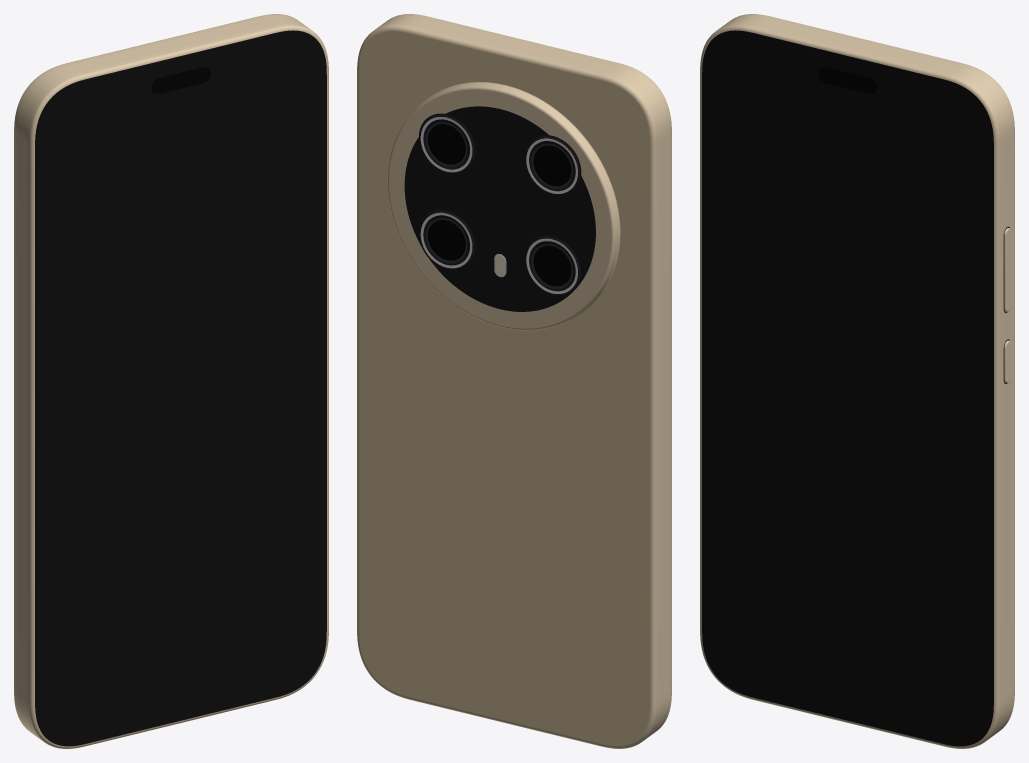
Rendered from honor-magic8-pro.glb.
3 views of the same model, side by side, from view 1: azimuth 30°, elevation 25°; view 2: azimuth 150°, elevation 25°; view 3: azimuth 330°, elevation 25° (orthographic).
Parts seen in each view (by area): view 1: body, punch; view 2: body, camera; view 3: body, buttons, punch.
Boxes of the visible parts, x1,y1,x2,y2 form: body: (14,14,328,748); punch: (151,67,210,94); body: (357,14,671,748); camera: (387,82,620,330); body: (700,14,1014,748); buttons: (1003,226,1010,383); punch: (818,67,877,94).
Bounding box in the file's own units: 75.43 × 161 × 11.14.
